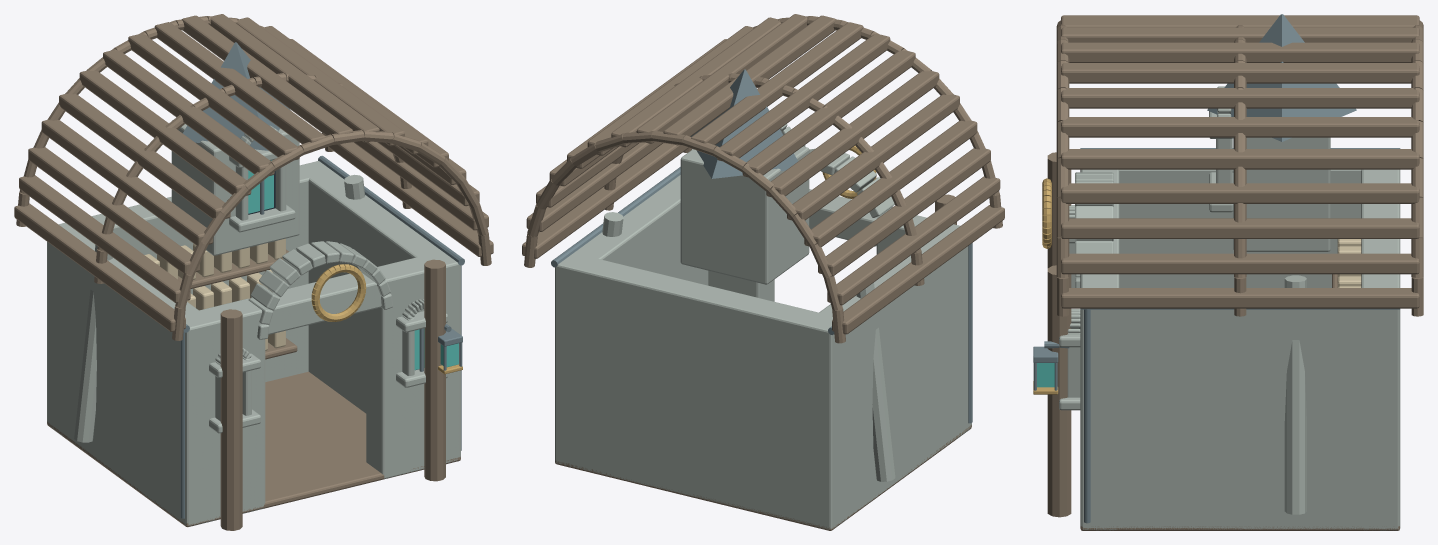
Rendered from a5_service_3.glb.
The picture shows the model from 3 angles, left to right: view 1: azimuth 30°, elevation 25°; view 2: azimuth 150°, elevation 25°; view 3: azimuth 270°, elevation 25°; orthographic projection. The views are drawn at different scales.
Parts seen in each view (by area): view 1: Roof.021, Side.021, Front.021, Body.048; view 2: Roof.021, Body.048, Side.021, Front.021; view 3: Roof.021, Side.021, Front.021, Body.048.
Part boxes in pixels (box(x1,y1,x2,y2)): Roof.021: box(14, 14, 493, 340); Side.021: box(47, 162, 461, 526); Front.021: box(170, 241, 462, 530); Body.048: box(47, 161, 460, 527); Roof.021: box(522, 14, 1004, 343); Body.048: box(555, 255, 971, 530); Side.021: box(556, 175, 972, 529); Front.021: box(708, 148, 971, 439); Roof.021: box(1042, 14, 1423, 316); Side.021: box(1080, 169, 1397, 529); Front.021: box(1033, 152, 1119, 530); Body.048: box(1080, 169, 1400, 530).
Size of the model in its own units: 3.06 by 3.5 by 2.81.
